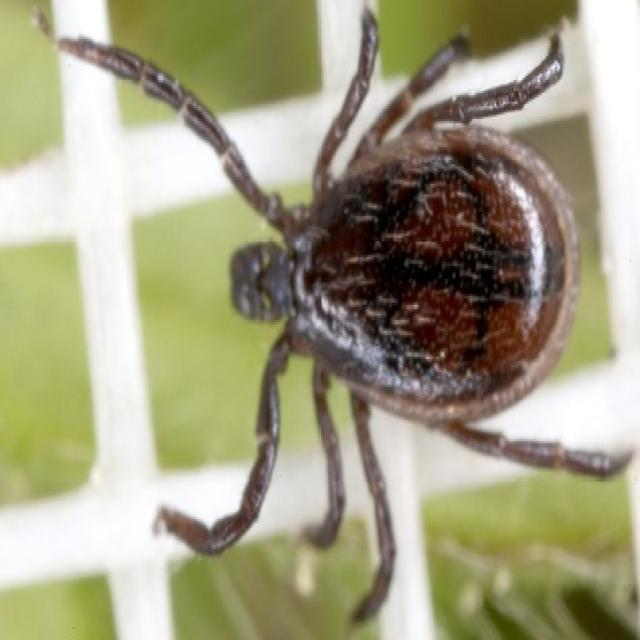Ixodes Ricinus-M: (160, 4, 632, 627)
